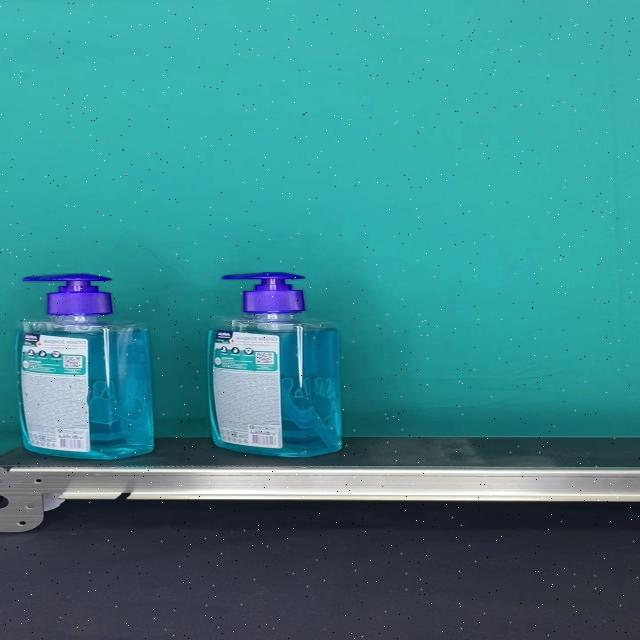Bottle: (15, 274, 154, 460), (208, 273, 342, 457)
Cap: (23, 274, 113, 316), (221, 273, 303, 314)
